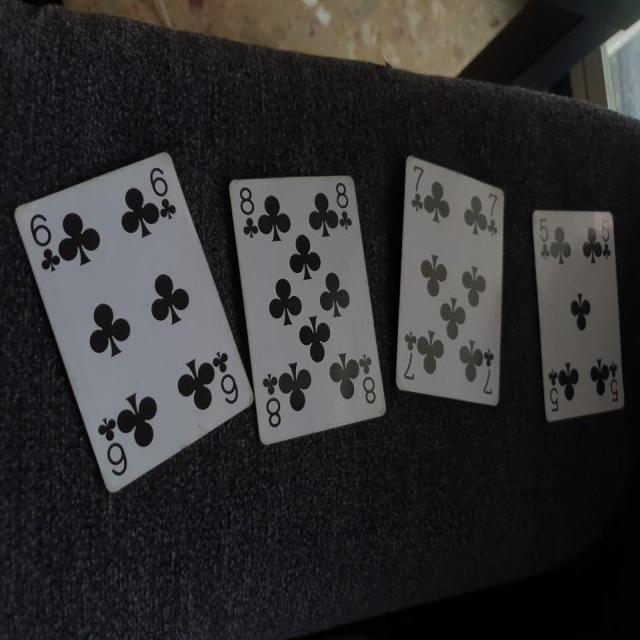5 Trefoils: (533, 206, 628, 425)
6 Trefoils: (12, 153, 253, 494)
7 Trefoils: (392, 151, 505, 408)
8 Trefoils: (228, 170, 388, 444)
